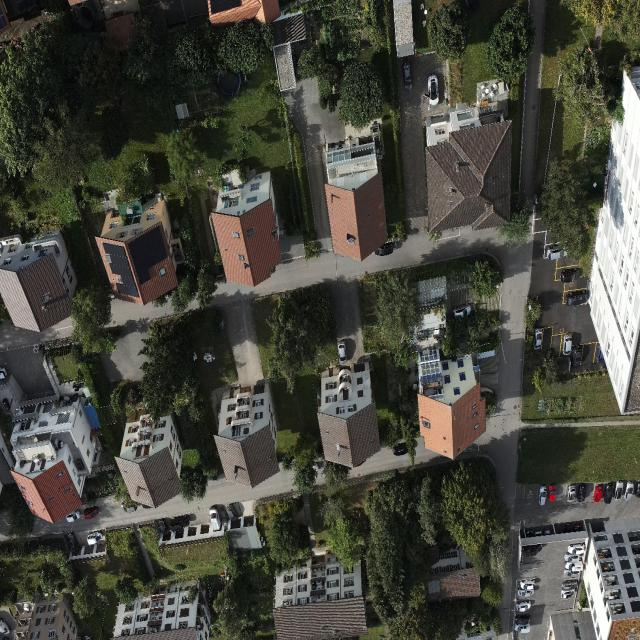panneaux_solaires: (128, 226, 166, 285), (209, 0, 244, 14), (0, 0, 8, 32)
